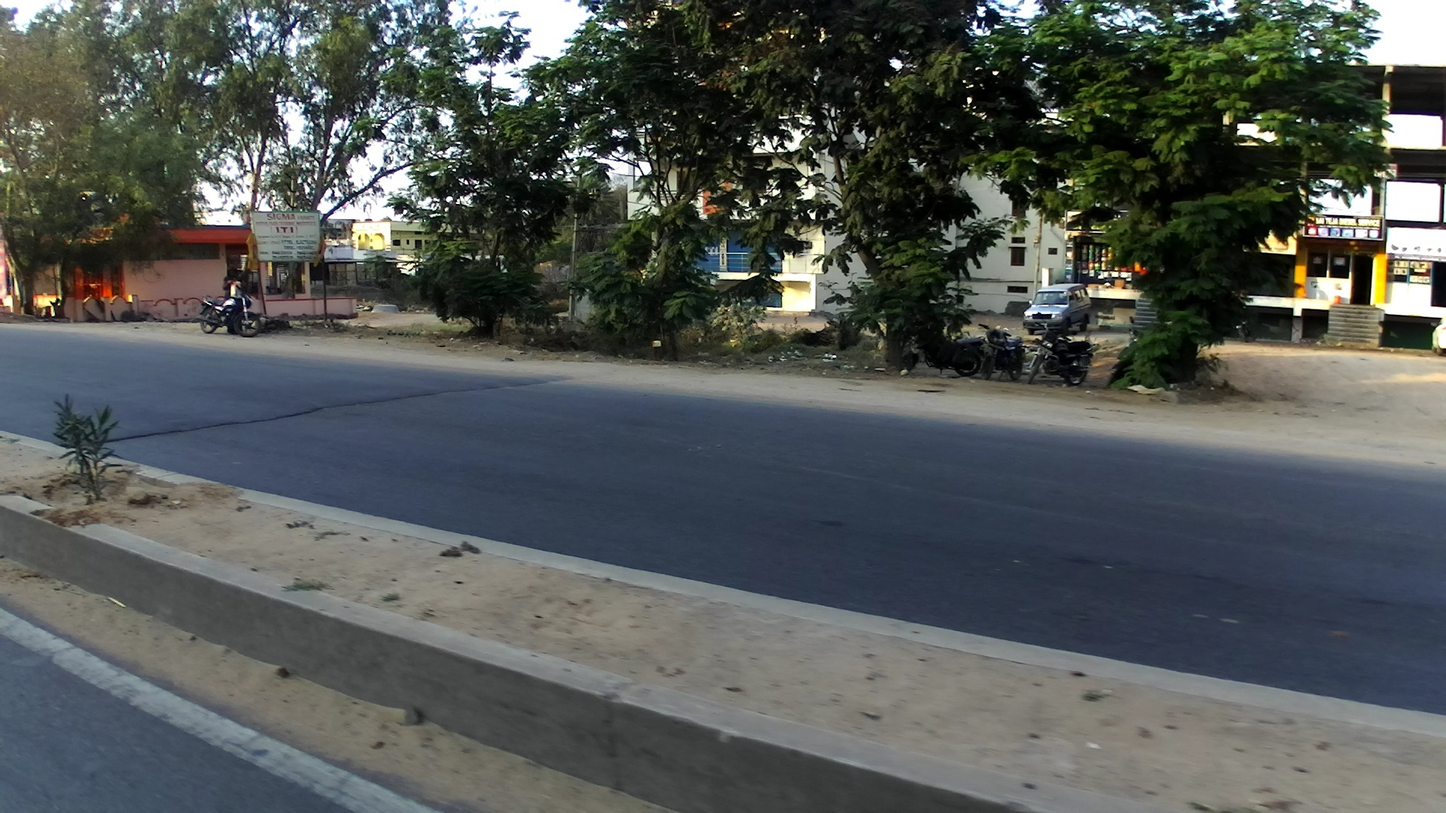car: (1020, 282, 1092, 336)
motorcycle: (902, 319, 987, 379), (1027, 318, 1099, 385), (195, 288, 265, 340), (971, 320, 1024, 382)
rider: (230, 271, 245, 305)
